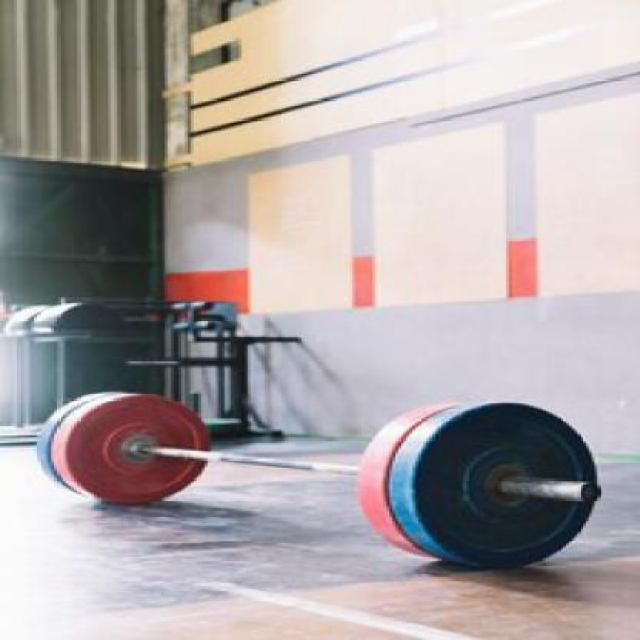barbell: (400, 394, 606, 577)
